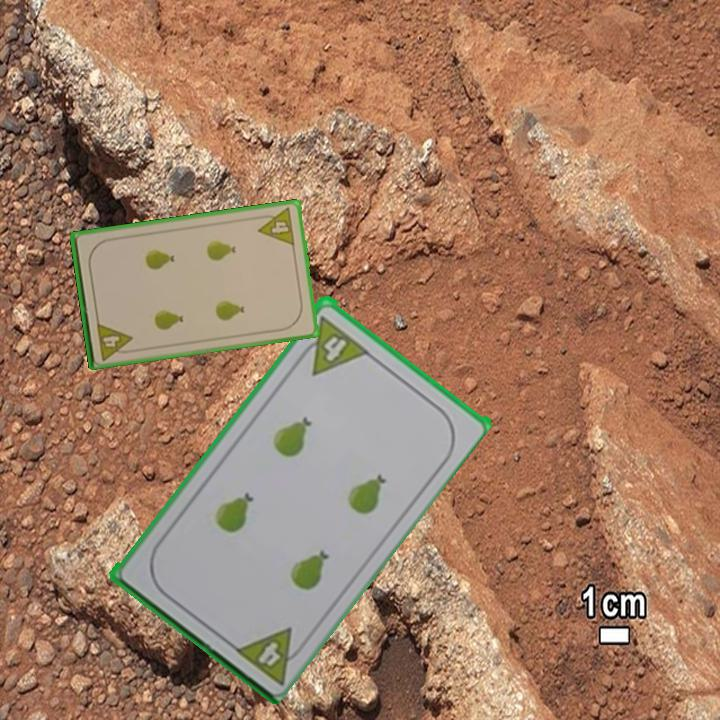4p: (229, 622, 311, 687), (293, 311, 371, 378), (253, 204, 298, 249), (93, 319, 136, 363)
